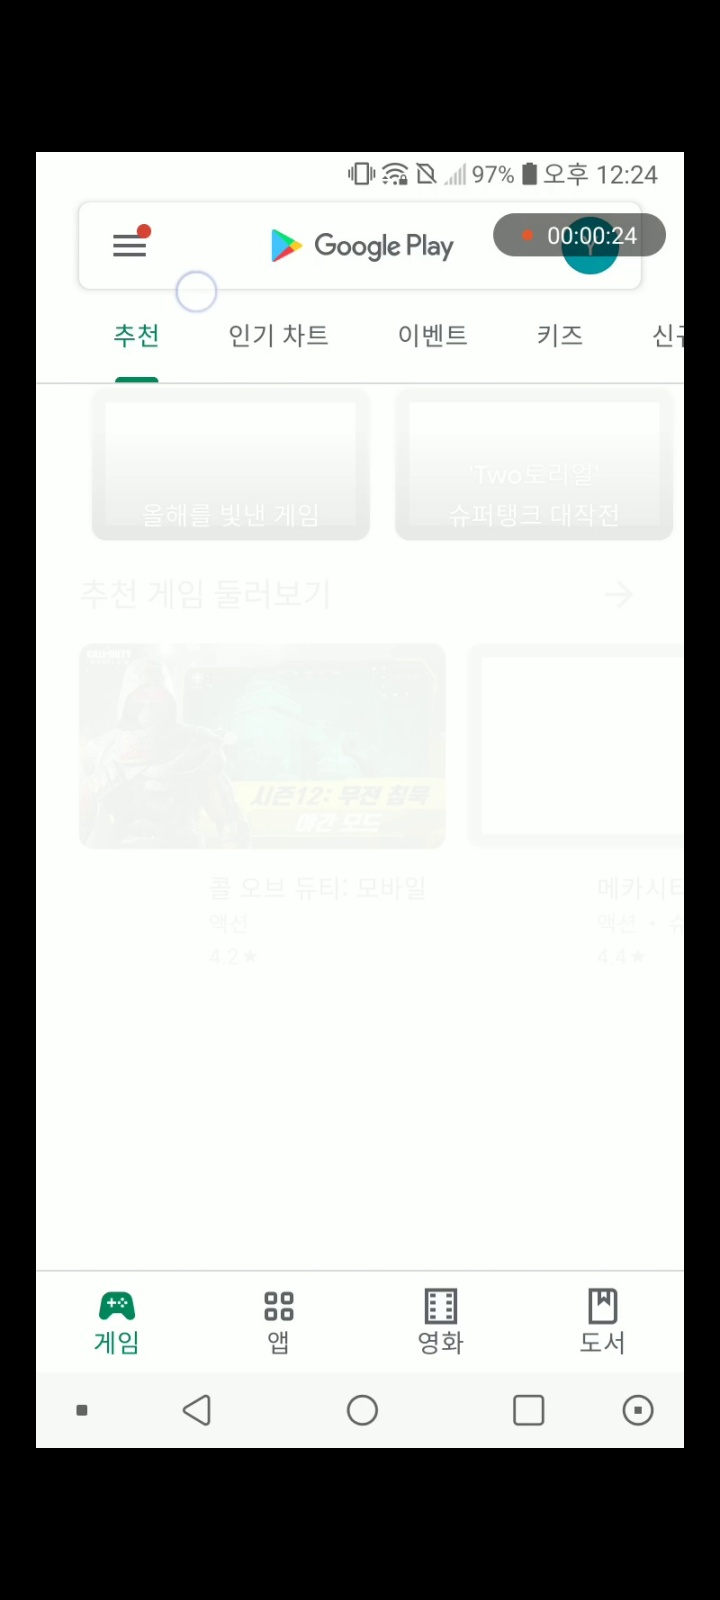Cursor: (174, 270, 219, 315)
